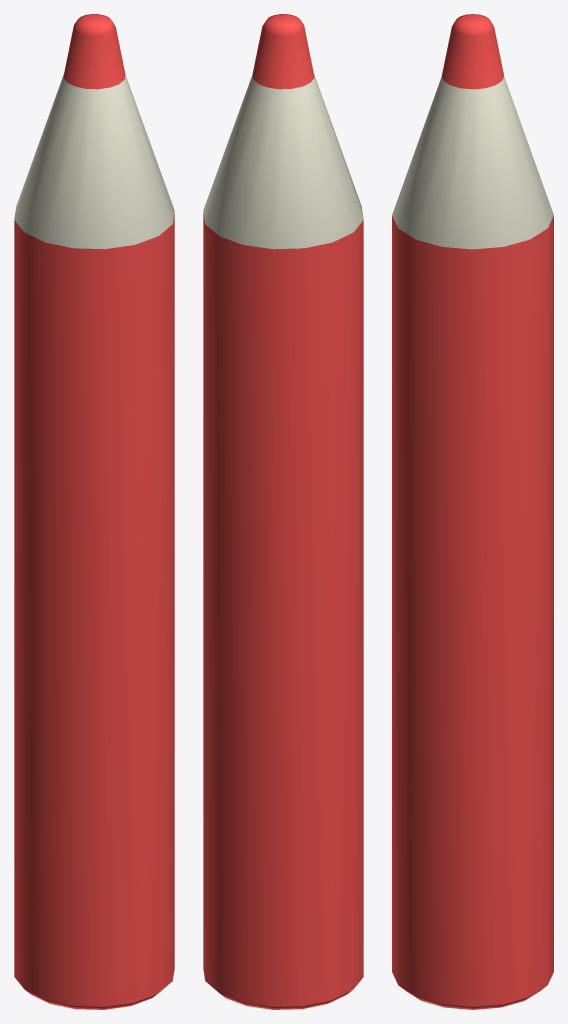
File: Public_8_Pencil_1.glb
3 renders of one model, left to right at view 1: azimuth 30°, elevation 25°; view 2: azimuth 150°, elevation 25°; view 3: azimuth 270°, elevation 25°, orthographic.
Parts seen in each view (by area): view 1: Public_8_Pencil_1; view 2: Public_8_Pencil_1; view 3: Public_8_Pencil_1.
Boxes of the visible parts, x1,y1,x2,y2 form: Public_8_Pencil_1: [14, 14, 174, 1009]; Public_8_Pencil_1: [203, 14, 363, 1009]; Public_8_Pencil_1: [392, 14, 553, 1009].
Bounding box in the file's own units: 0.1578 × 1.03 × 0.1578.
Materials: 1 (1 with a texture image).
